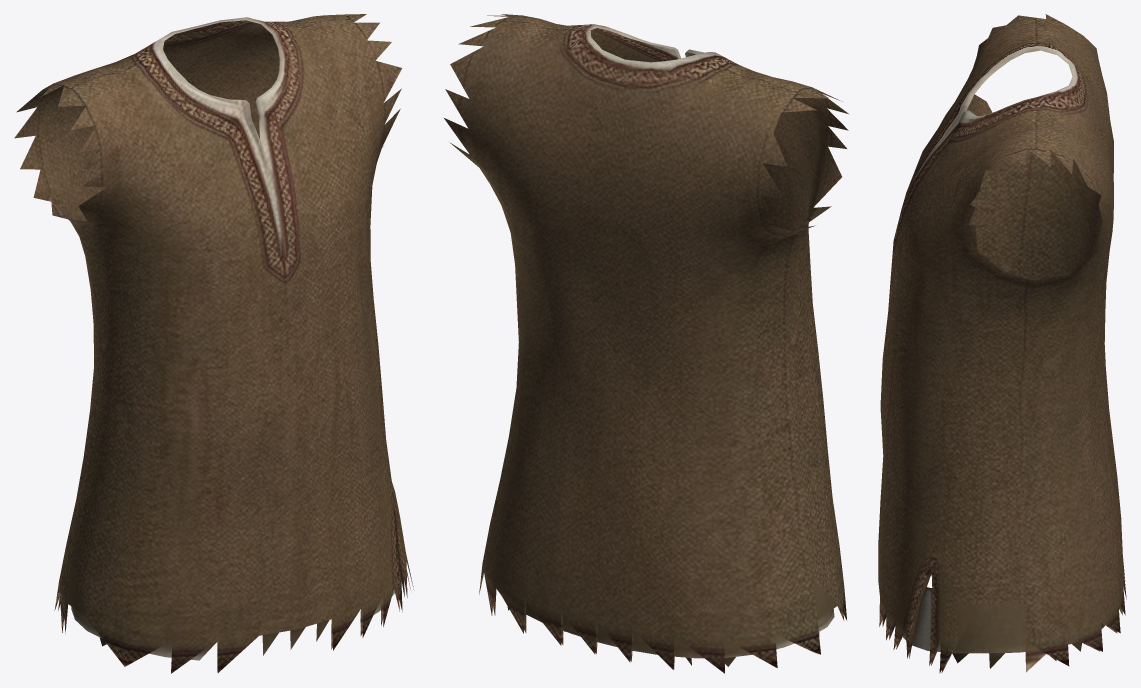
File: character_torso.glb
3 renders of one model, left to right at view 1: azimuth 30°, elevation 25°; view 2: azimuth 150°, elevation 25°; view 3: azimuth 270°, elevation 25°, orthographic. The views are drawn at different scales.
Visible parts, largest first — view 1: tripo_node_593ac940-e209-4632-be89-0699e29a8120; view 2: tripo_node_593ac940-e209-4632-be89-0699e29a8120; view 3: tripo_node_593ac940-e209-4632-be89-0699e29a8120.
Part boxes in pixels (x1=…): tripo_node_593ac940-e209-4632-be89-0699e29a8120: x1=14, y1=14, x2=413, y2=673; tripo_node_593ac940-e209-4632-be89-0699e29a8120: x1=444, y1=14, x2=848, y2=673; tripo_node_593ac940-e209-4632-be89-0699e29a8120: x1=878, y1=14, x2=1126, y2=673.
Bounding box in the file's own units: 0.4806 × 0.787 × 0.3281.
1 material, 1 textured.
